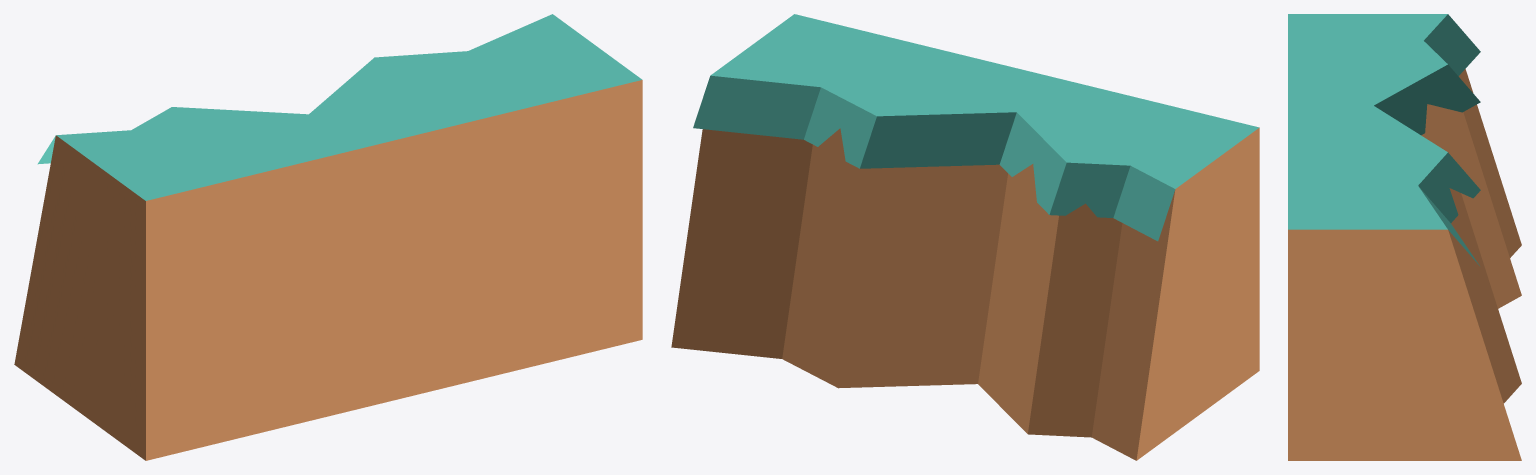
The model's file is cliffBrown_half.obj.
3 renders of one model, left to right at view 1: azimuth 30°, elevation 25°; view 2: azimuth 150°, elevation 25°; view 3: azimuth 270°, elevation 25°, orthographic. The views are drawn at different scales.
Parts seen in each view (by area): view 1: cliffBrown_half; view 2: cliffBrown_half; view 3: cliffBrown_half.
Part boxes in pixels (x1=…): cliffBrown_half: x1=14, y1=14, x2=642, y2=460; cliffBrown_half: x1=671, y1=14, x2=1259, y2=460; cliffBrown_half: x1=1288, y1=14, x2=1521, y2=460.
Bounding box in the file's own units: 10 × 5 × 4.58.
